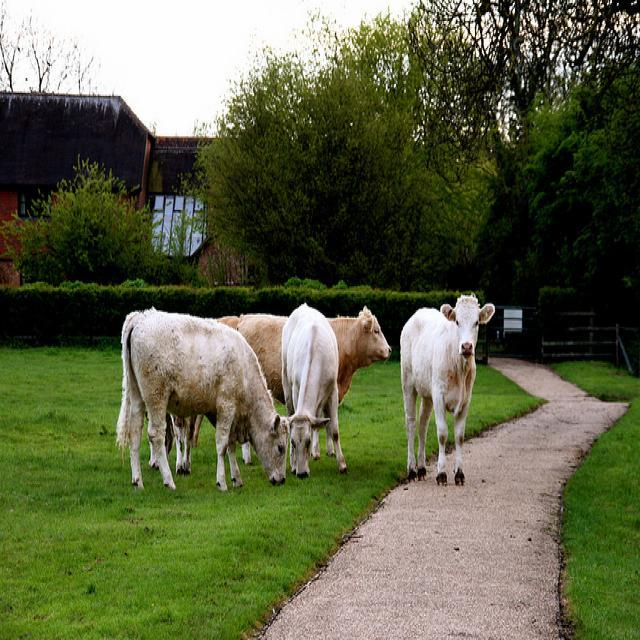cow: (115, 307, 289, 489), (238, 297, 397, 477), (399, 294, 495, 484), (279, 298, 348, 475), (169, 315, 239, 474)
